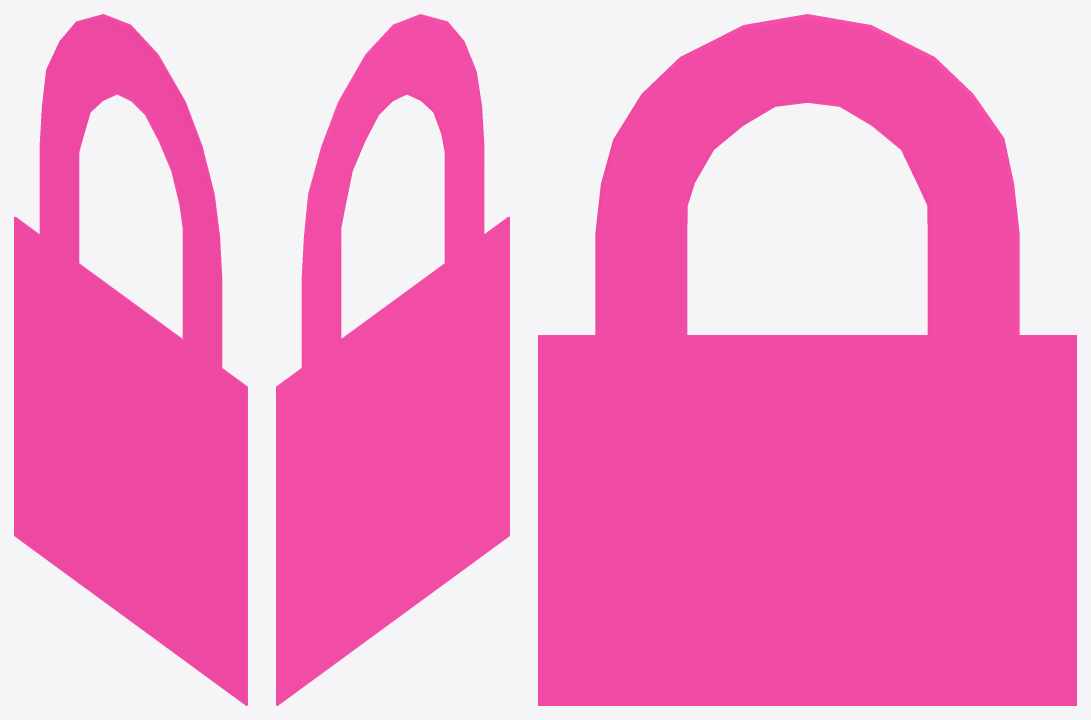
Rendered from PadlockIcon.fbx.
3 renders of one model, left to right at view 1: azimuth 30°, elevation 25°; view 2: azimuth 150°, elevation 25°; view 3: azimuth 270°, elevation 25°, orthographic. The views are drawn at different scales.
Visible parts, largest first — view 1: PadlockIcon; view 2: PadlockIcon; view 3: PadlockIcon.
Part boxes in pixels (x1,y1,x2,y2): PadlockIcon: [14, 14, 247, 705]; PadlockIcon: [276, 14, 509, 705]; PadlockIcon: [538, 14, 1076, 705].
Size of the model in its own units: 0.00315 by 1.1 by 0.7753.
